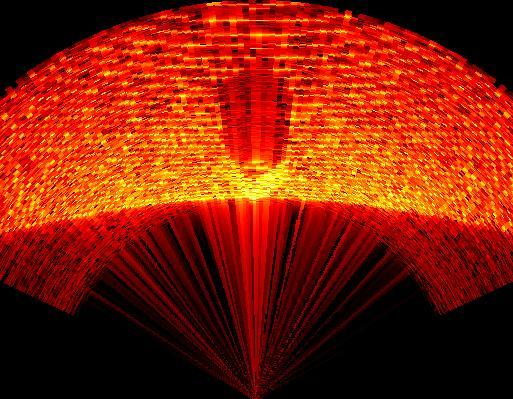box_crate: (218, 58, 298, 205)
